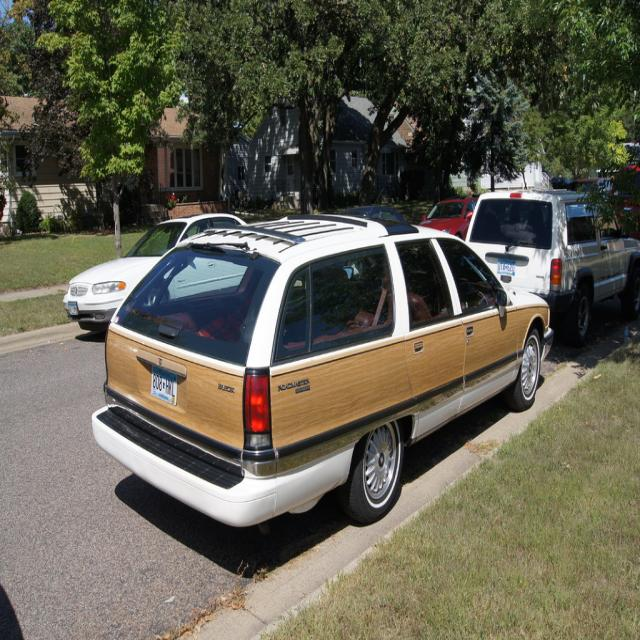car: (85, 215, 562, 548)
